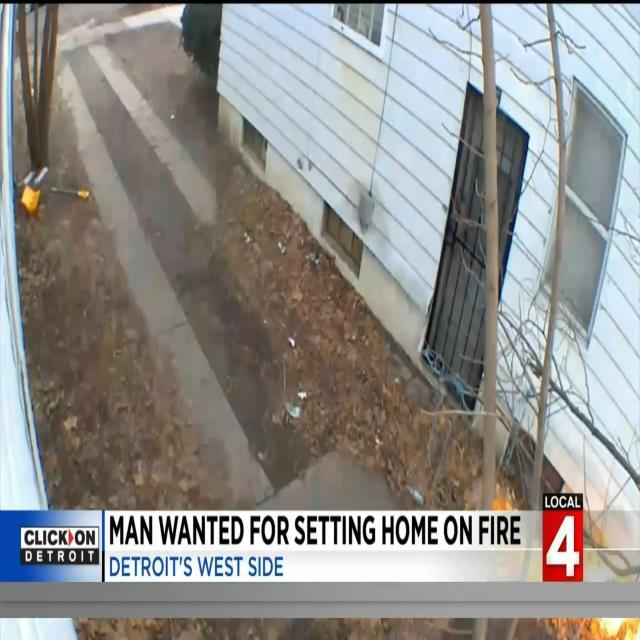Fire: (481, 463, 640, 640)
